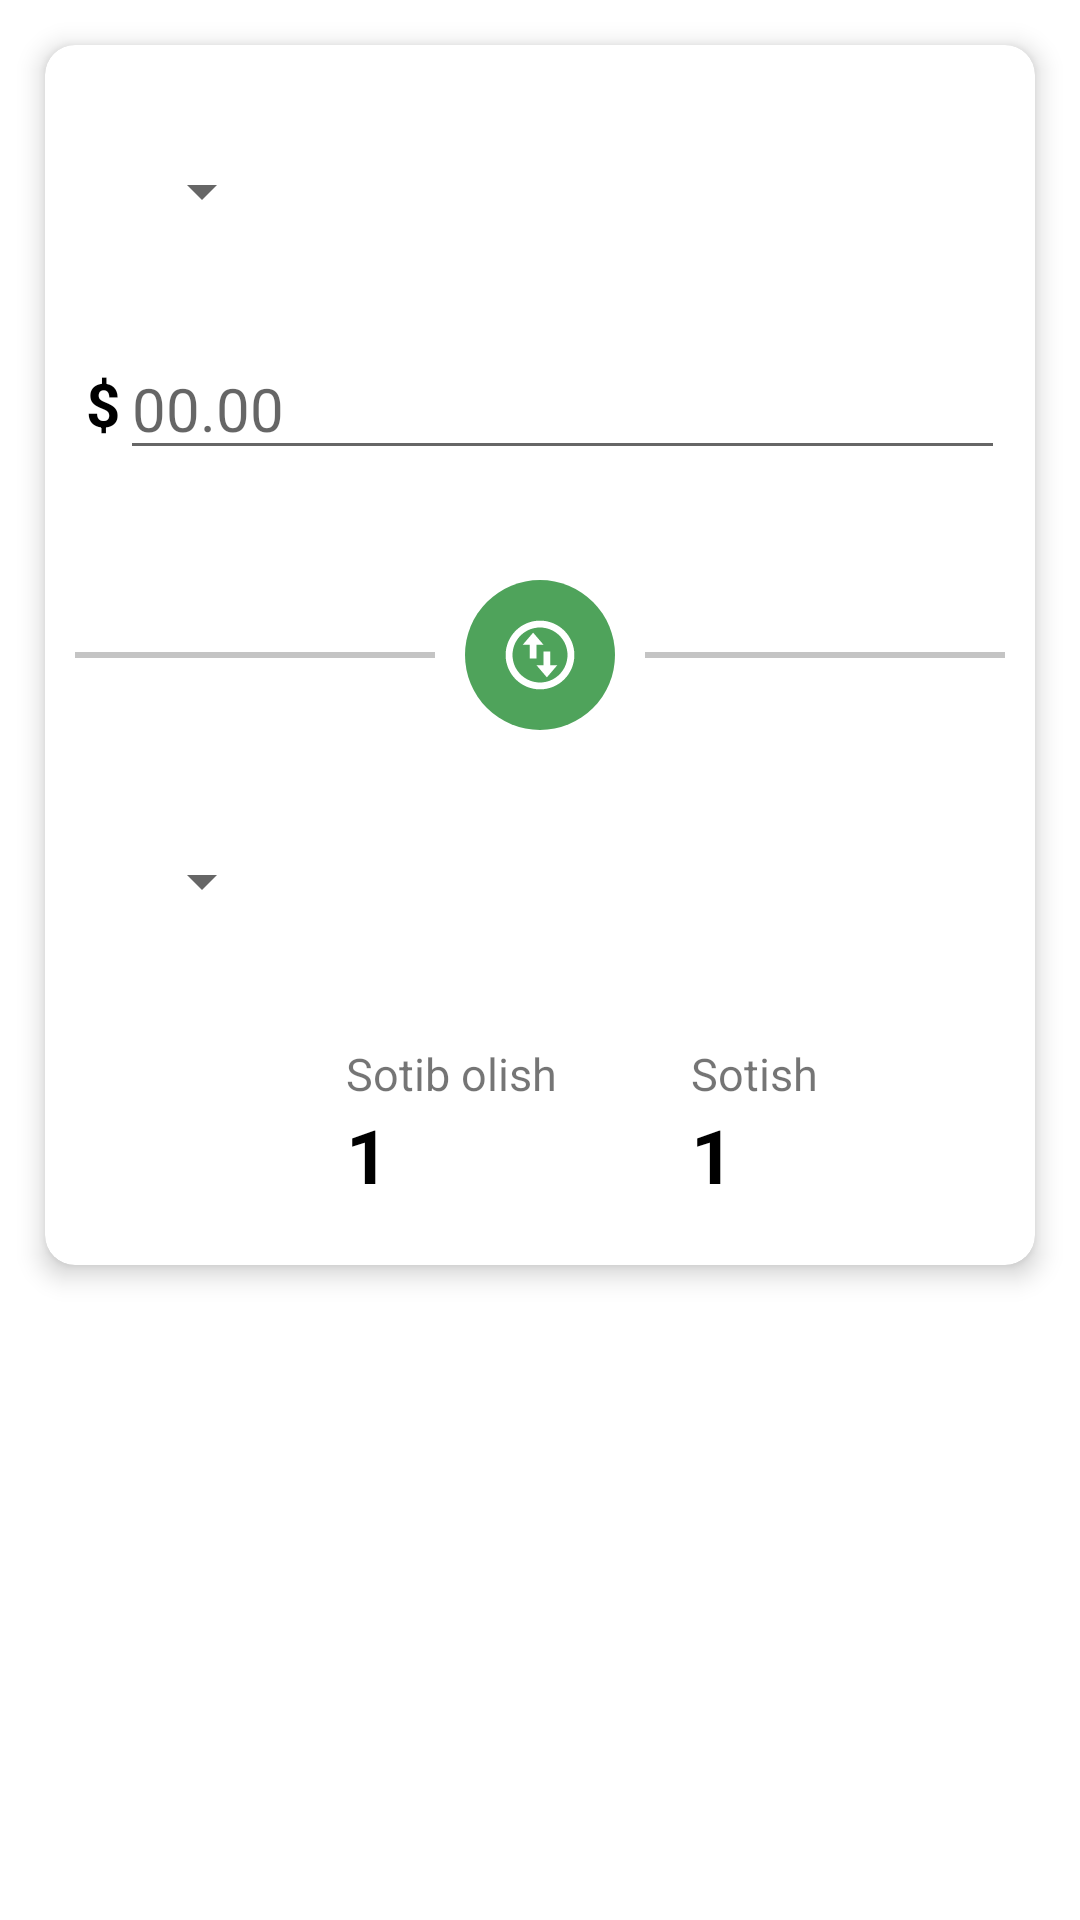

Screen size 1080w x 1920h. Icon name, then its center in pixels as (x,y):
change: (540,655)
